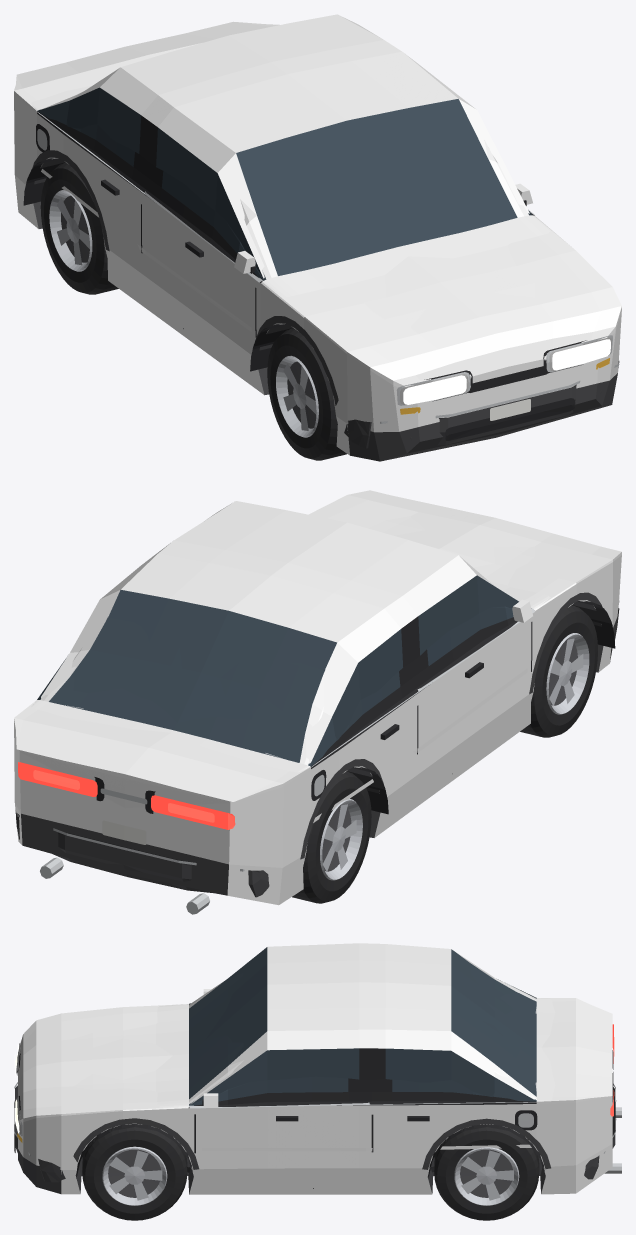
Rendered from barao.glb.
The picture shows the model from 3 angles, top to bottom: view 1: azimuth 30°, elevation 25°; view 2: azimuth 150°, elevation 25°; view 3: azimuth 270°, elevation 25°; orthographic projection. The views are drawn at different scales.
Parts seen in each view (by area): view 1: body.001, glass.001, glass, body, details, wheel_fr, wheel_rr, lamp_head, wheel_wells.001; view 2: body.001, glass.001, glass, body, details, wheel_fr, wheel_rr, lamp_tail.001, lamp_tail, wheel_wells.001; view 3: body.001, glass.001, body, glass, wheel_fl, wheel_rl, details, wheel_wells, wheel_wells.001.
Part boxes in pixels (left/top/right/bottom): body.001: left=14, top=14, right=621, bottom=461; glass.001: left=37, top=87, right=487, bottom=277; glass: left=38, top=109, right=532, bottom=281; body: left=31, top=32, right=601, bottom=439; details: left=32, top=111, right=619, bottom=448; wheel_fr: left=267, top=328, right=346, bottom=460; wheel_rr: left=40, top=162, right=118, bottom=294; lamp_head: left=396, top=335, right=612, bottom=414; wheel_wells.001: left=23, top=158, right=293, bottom=371; body.001: left=14, top=490, right=621, bottom=905; glass.001: left=37, top=575, right=518, bottom=766; glass: left=38, top=606, right=531, bottom=765; body: left=20, top=516, right=550, bottom=808; details: left=15, top=592, right=619, bottom=914; wheel_fr: left=520, top=605, right=597, bottom=737; wheel_rr: left=292, top=771, right=371, bottom=903; lamp_tail.001: left=18, top=762, right=235, bottom=829; lamp_tail: left=20, top=762, right=231, bottom=822; wheel_wells.001: left=346, top=600, right=615, bottom=814; body.001: left=18, top=943, right=612, bottom=1194; glass.001: left=191, top=947, right=536, bottom=1104; body: left=20, top=968, right=611, bottom=1175; glass: left=189, top=964, right=536, bottom=1105; wheel_fl: left=82, top=1127, right=187, bottom=1220; wheel_rl: left=434, top=1127, right=539, bottom=1220; details: left=14, top=989, right=621, bottom=1188; wheel_wells: left=76, top=1124, right=545, bottom=1178; wheel_wells.001: left=76, top=1127, right=544, bottom=1178.
Size of the model in its own units: 1.98 by 1.6 by 4.63.
